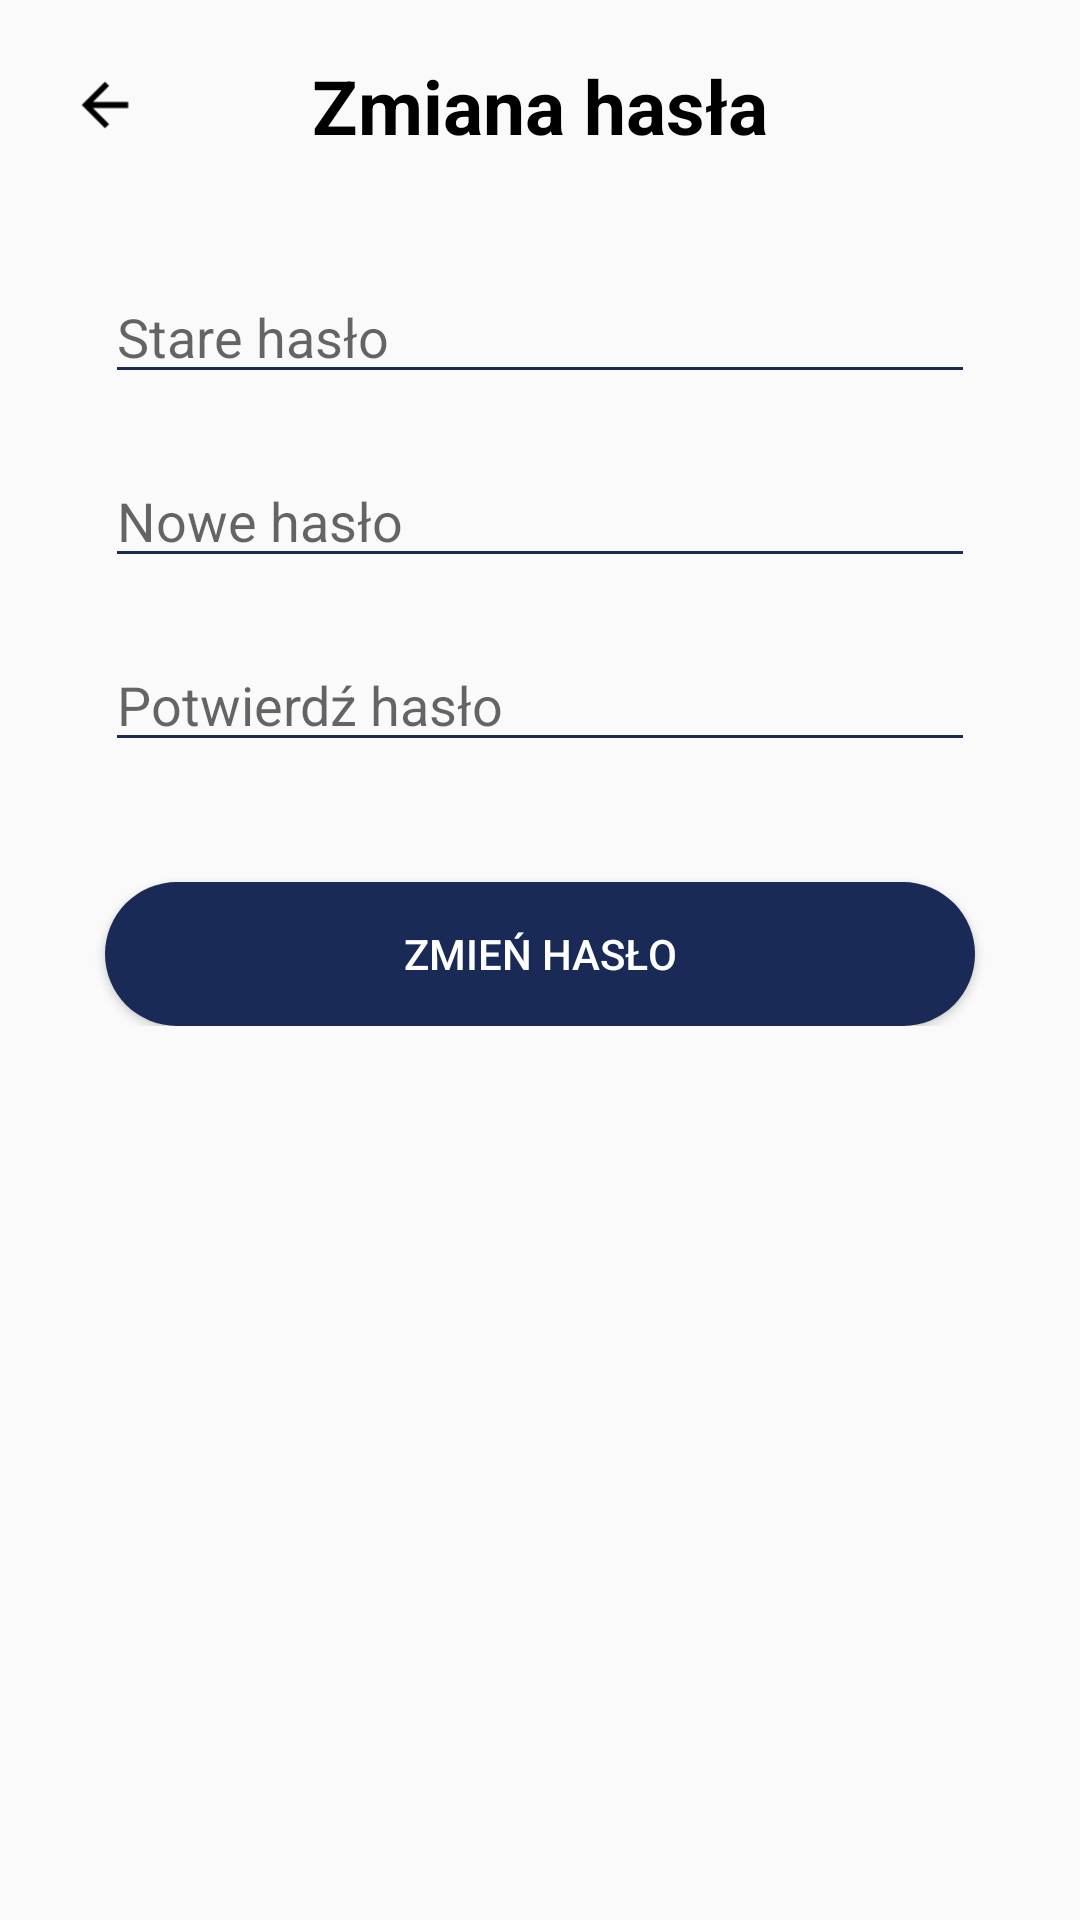

Icons on this 1080*1920 Android screen, each with its box as (x1, y1, x2, y2):
back: (82, 82, 129, 128)
